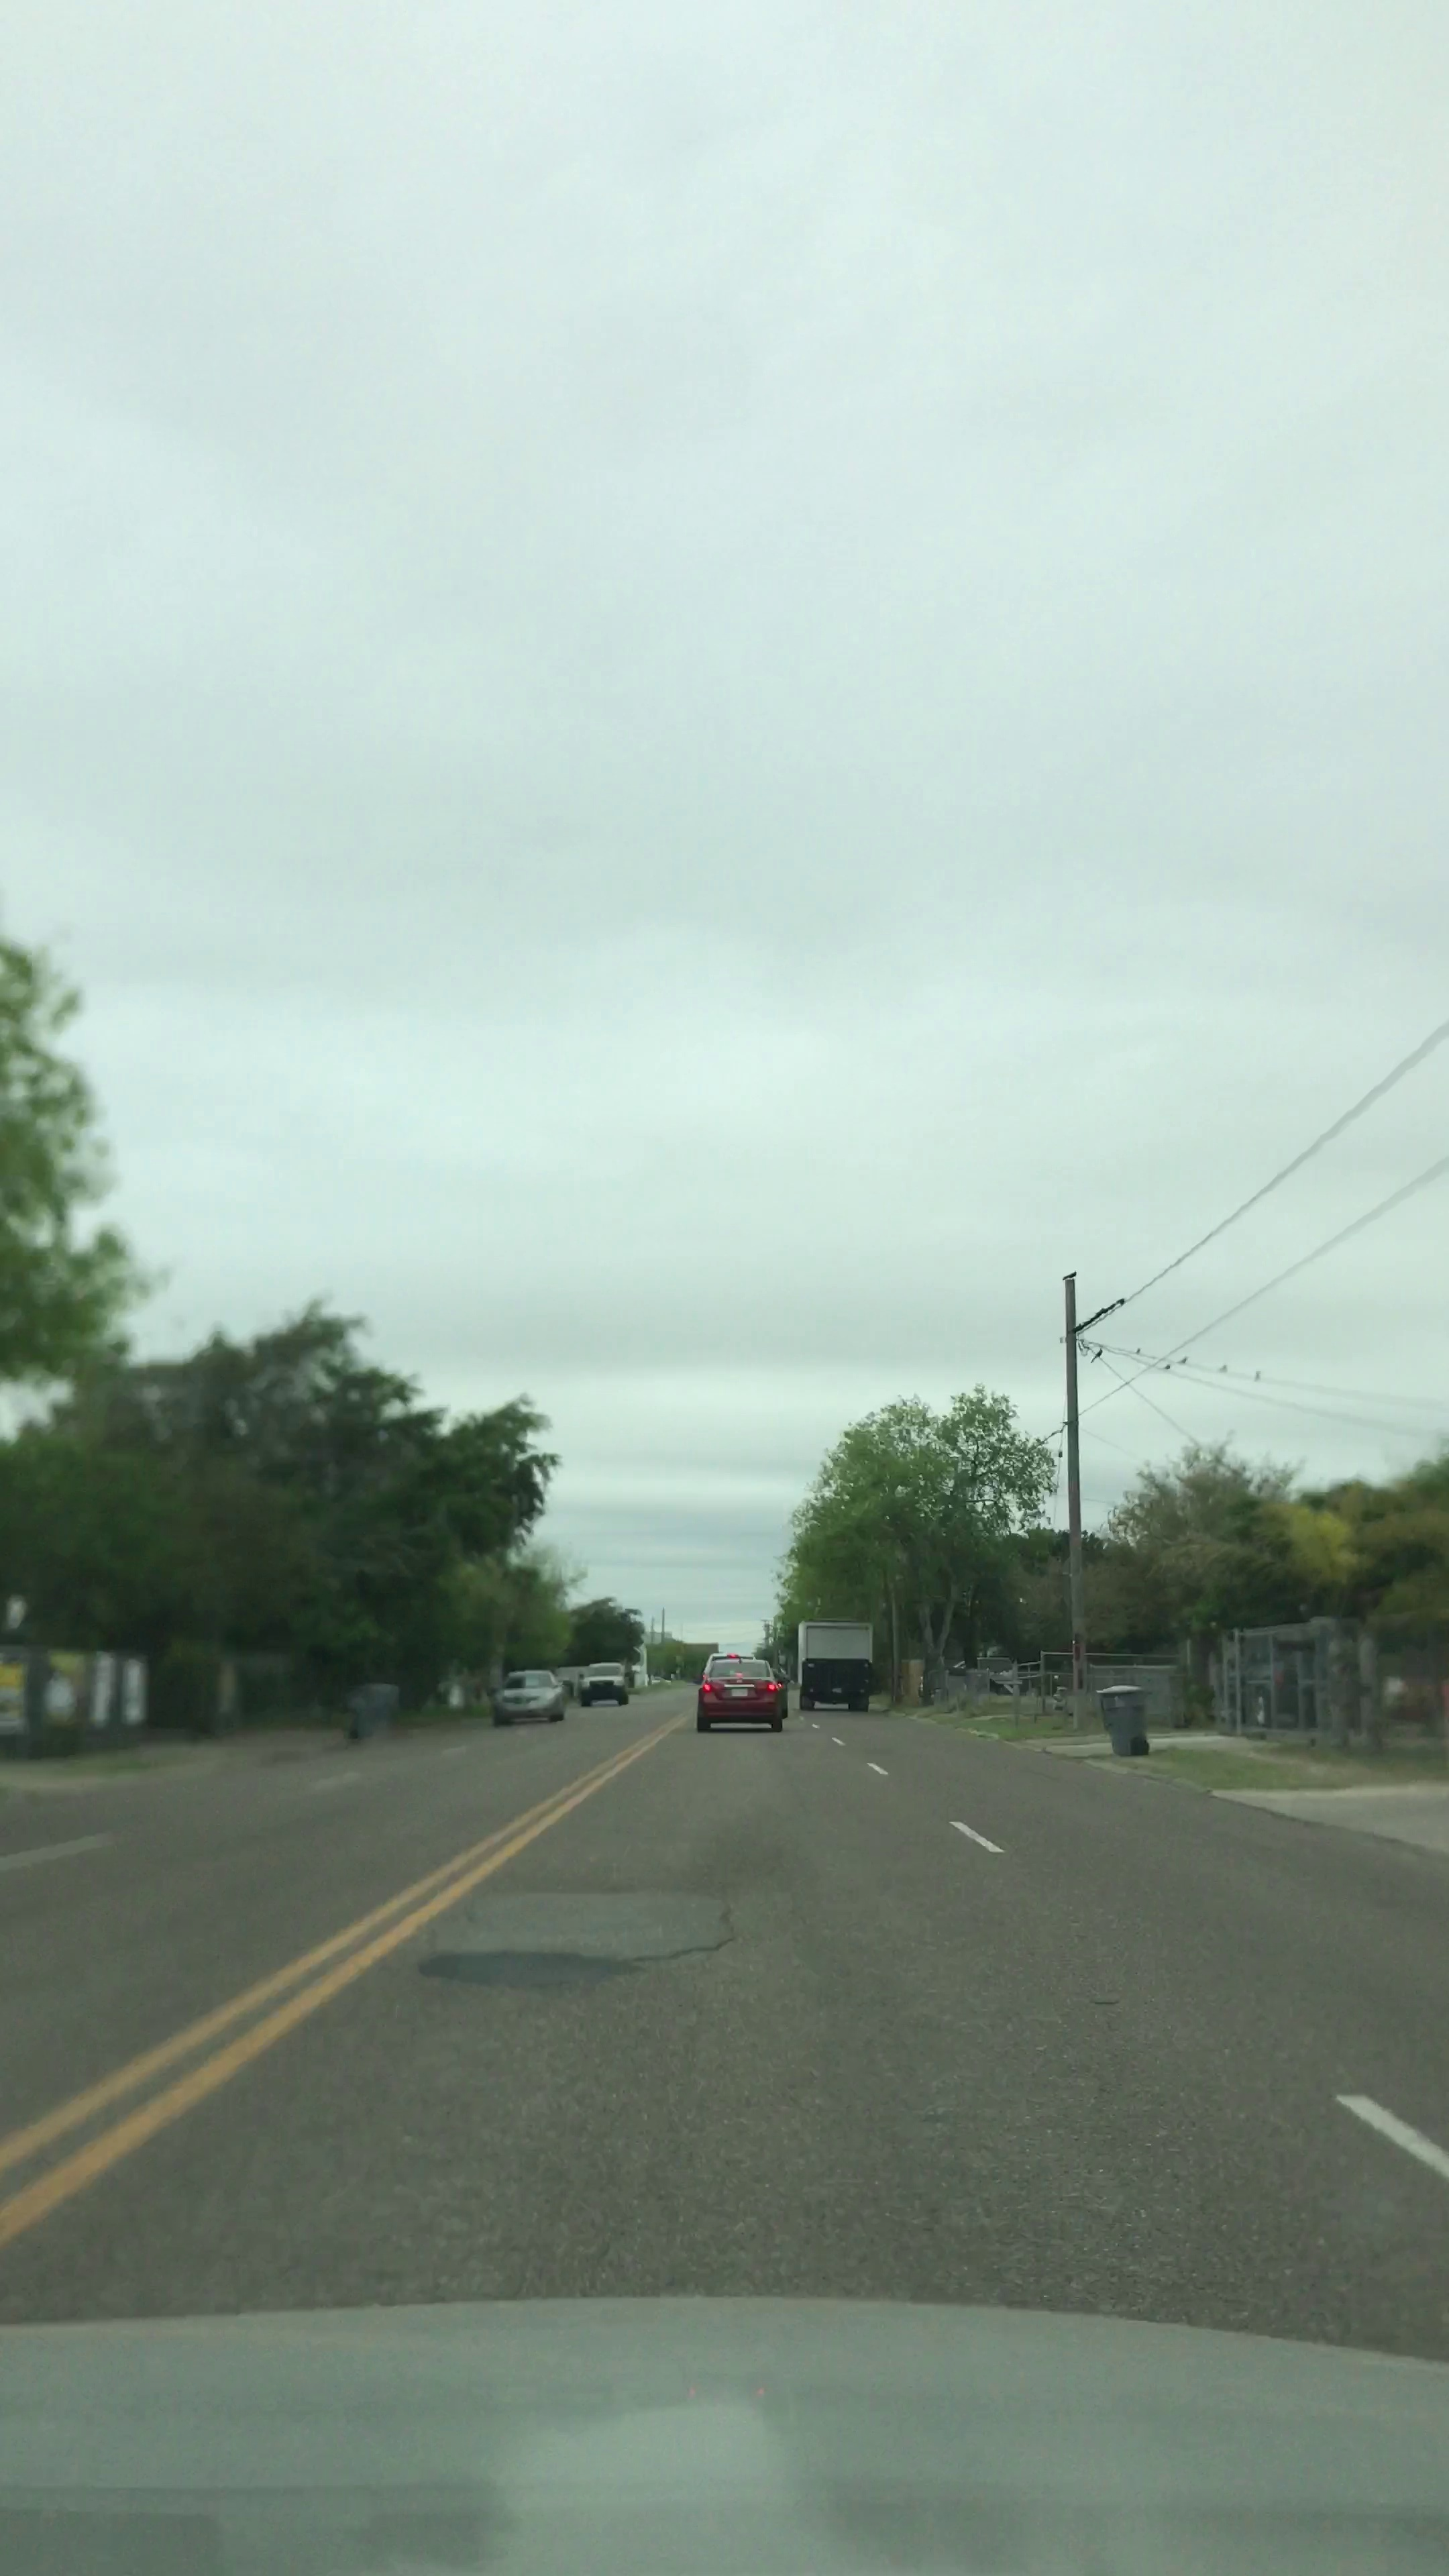crack: (609, 1874, 750, 1996)
pothole: (412, 1936, 653, 1996)
